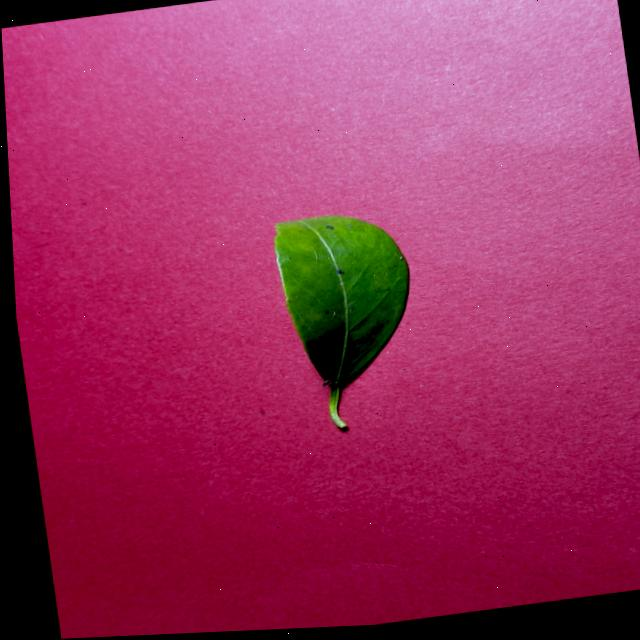greening: (273, 215, 407, 428)
